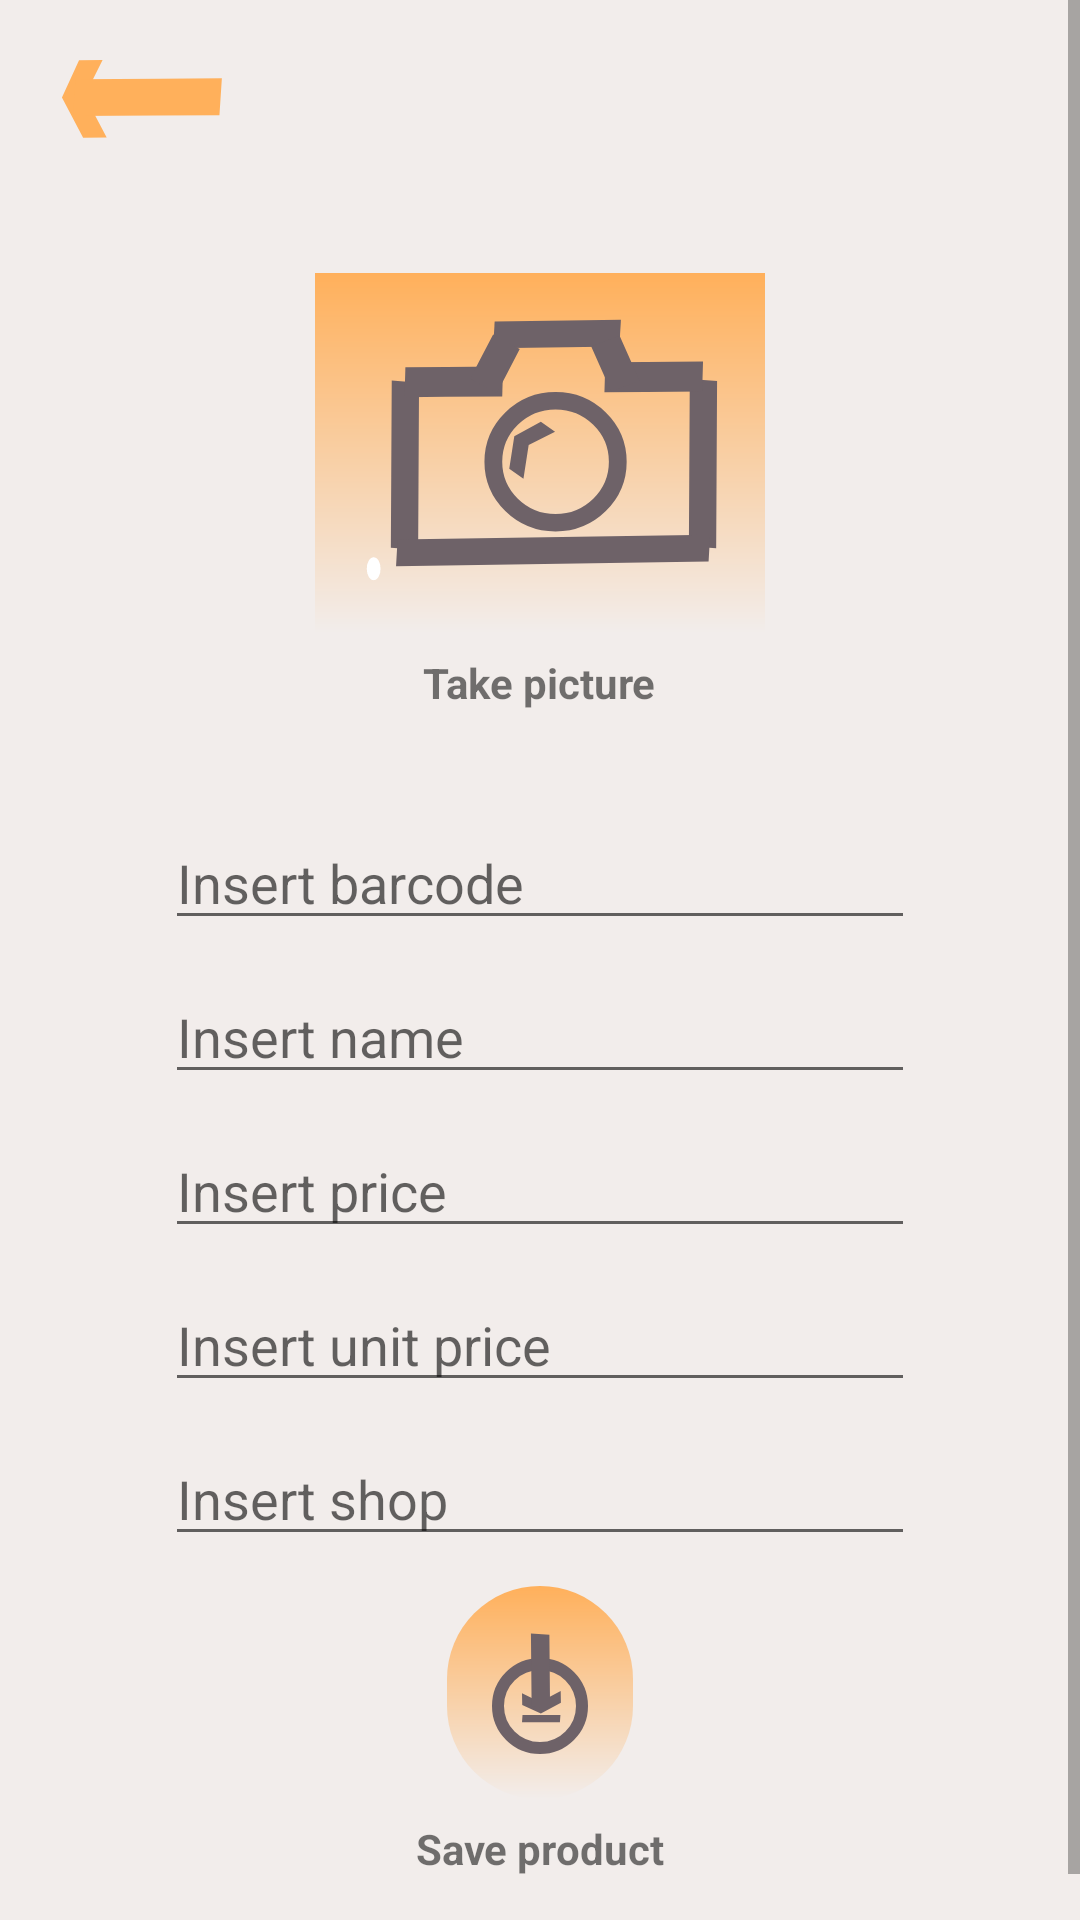

Screen size 1080 x 1920. Icon name, then its center in pixels as (x=x, y=y):
back: (x=142, y=99)
